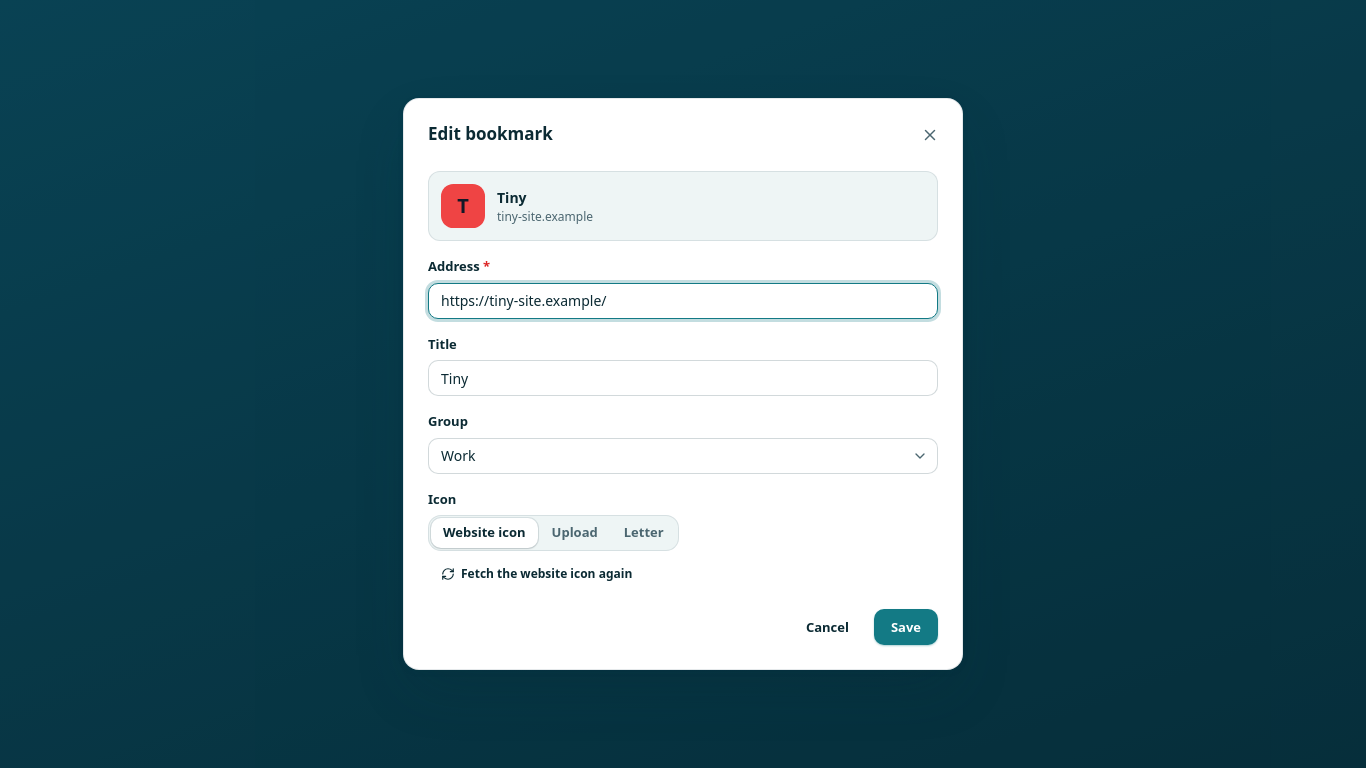
Test: Bookmark dialog (static build) › never claims an icon was found for a public site: it only points at DuckDuckGo’s icon
Click the button "Fetch the website icon again" at (537, 574), box [428, 559, 645, 589]
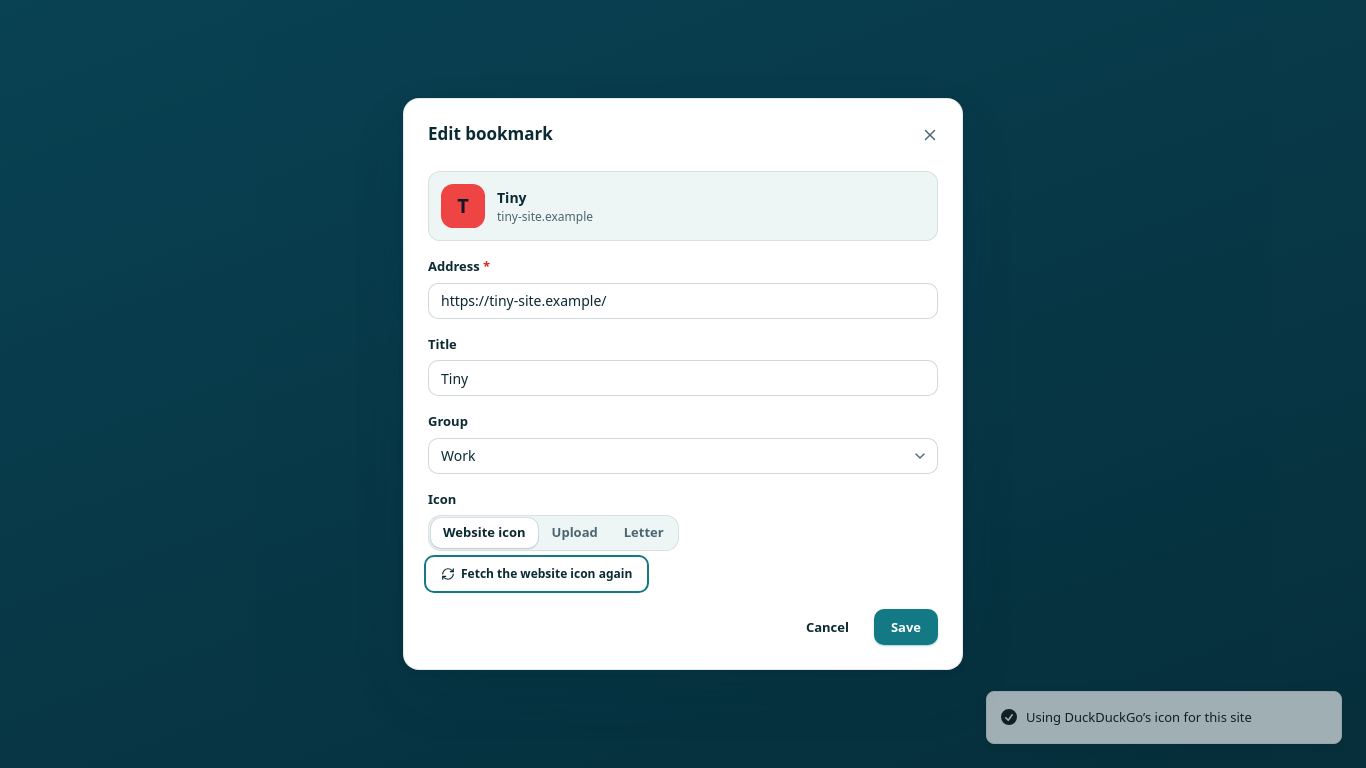
Expected: the text "Using DuckDuckGo’s icon for this site" is shown, [1026, 708, 1252, 727]
